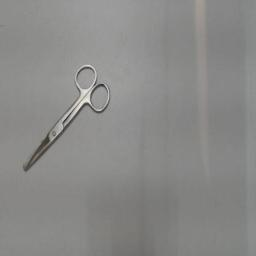Dressing Scissors: (18, 56, 116, 180)
